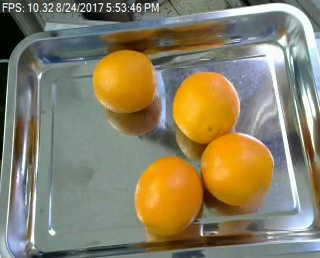Orange: (134, 156, 203, 236), (201, 132, 276, 205), (172, 71, 240, 143), (93, 49, 158, 111)
